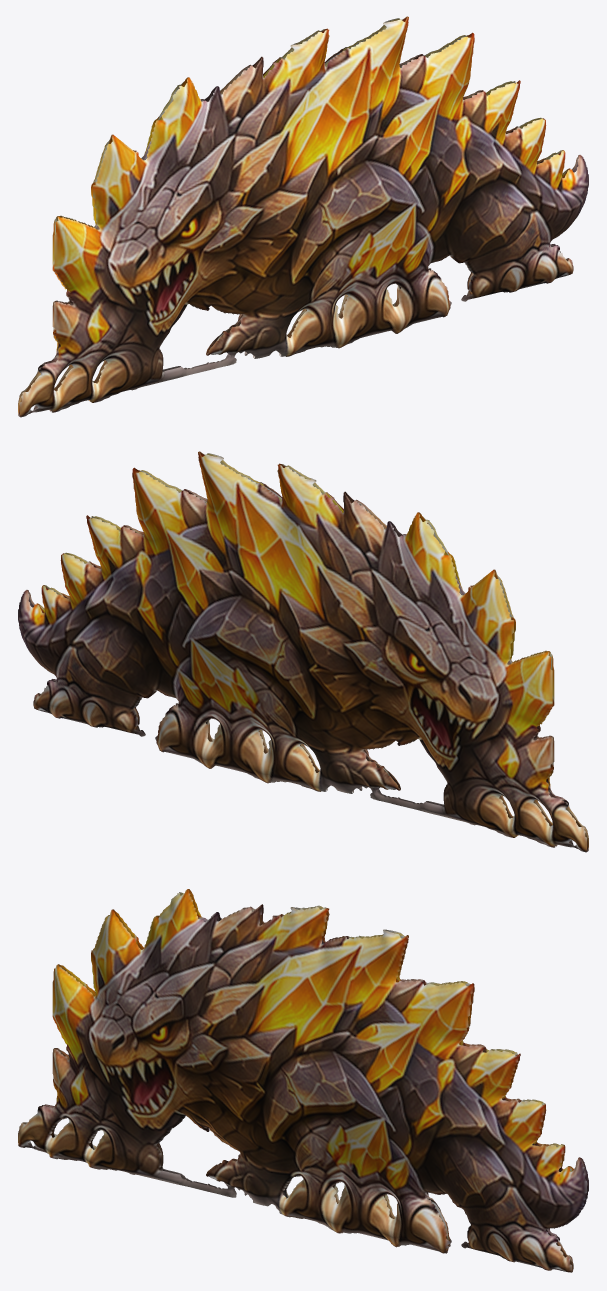
The model's file is terrabruto.glb.
3 views of the same model, one above another, from view 1: azimuth 30°, elevation 25°; view 2: azimuth 150°, elevation 25°; view 3: azimuth 330°, elevation 25° (orthographic).
Parts seen in each view (by area): view 1: terrabruto; view 2: terrabruto; view 3: terrabruto.
Part boxes in pixels (left/top/right/bottom): terrabruto: left=18, top=16, right=588, bottom=417; terrabruto: left=18, top=451, right=588, bottom=852; terrabruto: left=18, top=889, right=588, bottom=1272.
Size of the model in its own units: 2.8 by 1.5 by 0.3155.
Materials: 1 (1 with a texture image).
